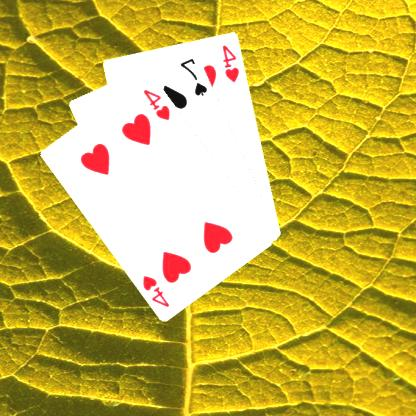4H: (142, 272, 172, 309), (142, 86, 173, 121), (221, 42, 243, 84)
7S: (180, 55, 210, 97)
